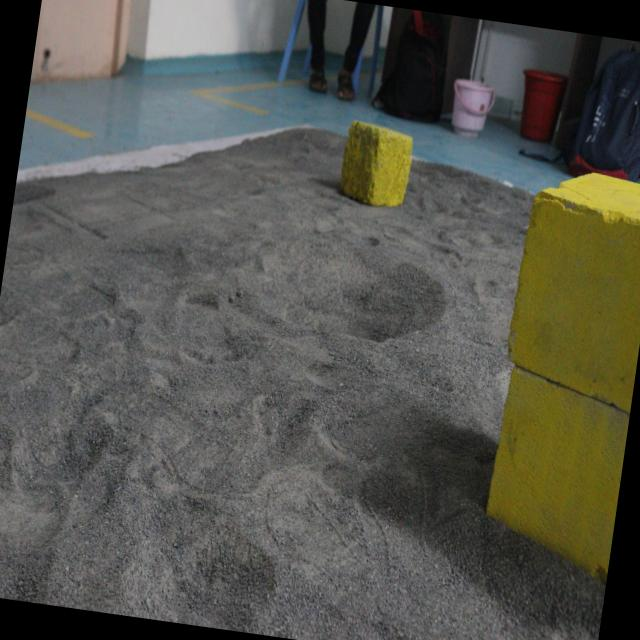box: (471, 157, 640, 572), (334, 120, 413, 208)
crater: (281, 236, 463, 368)
